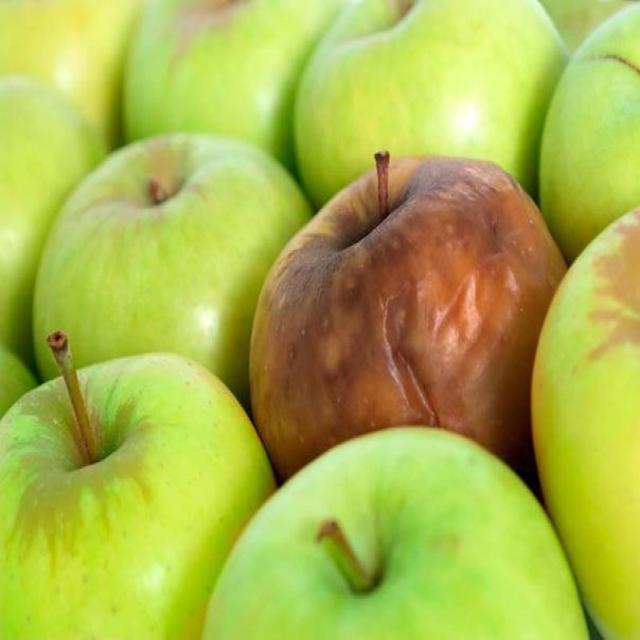fresh_apple: (215, 430, 588, 637), (2, 357, 267, 632), (34, 139, 247, 363)
rotten_apple: (249, 157, 566, 436)
